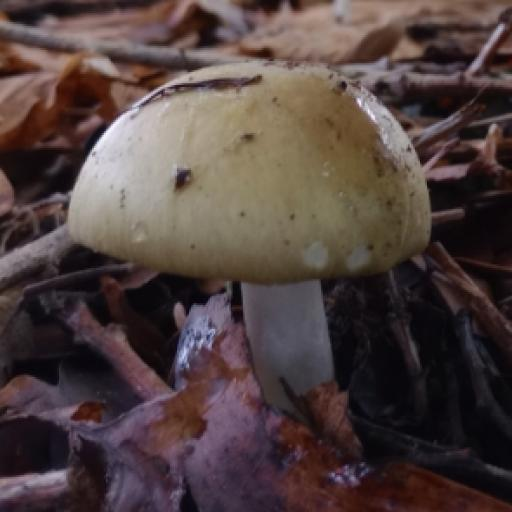mushroom: (37, 0, 487, 424)
